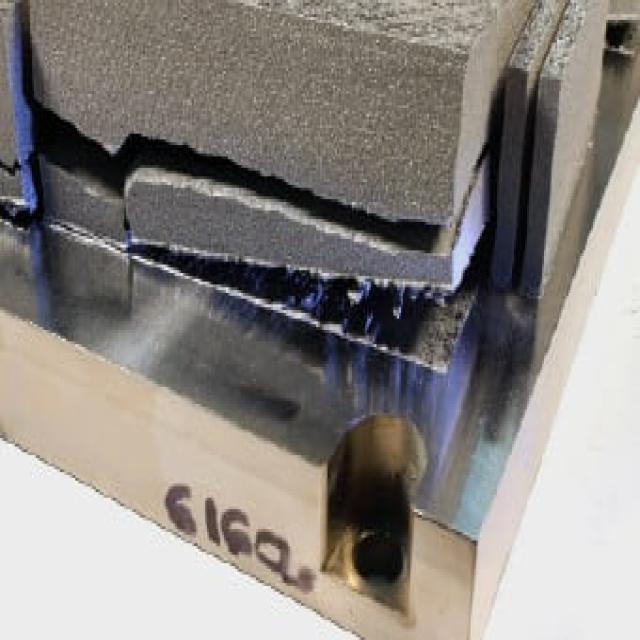Warping: (74, 116, 460, 271)
